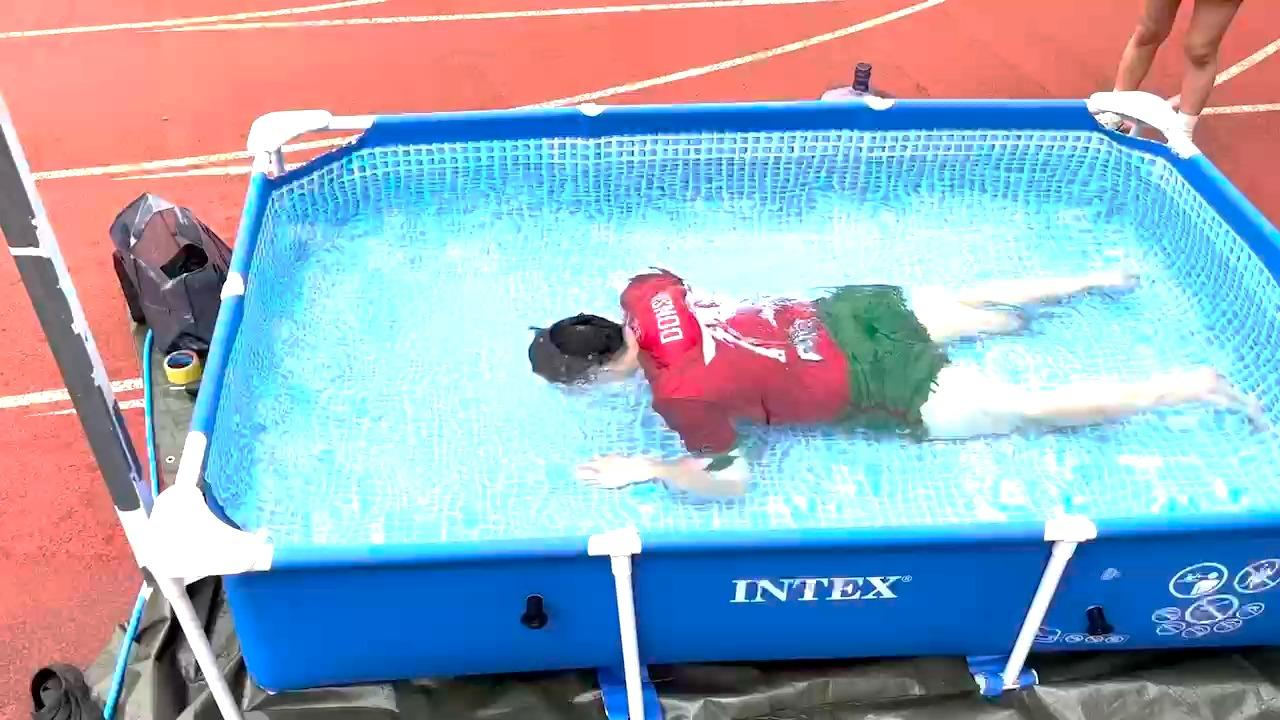Drowning: (487, 226, 1246, 508)
